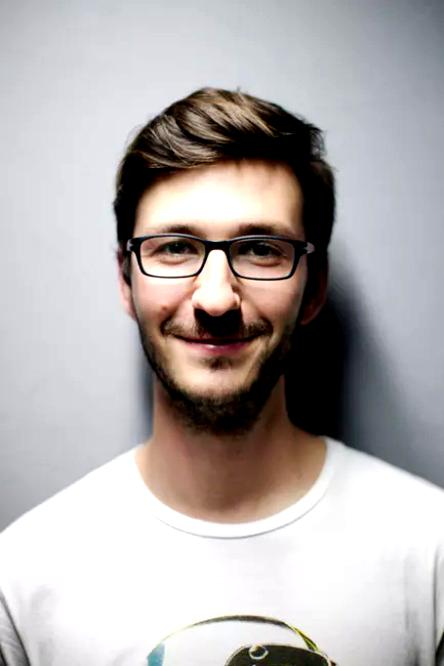face: (120, 167, 304, 414)
